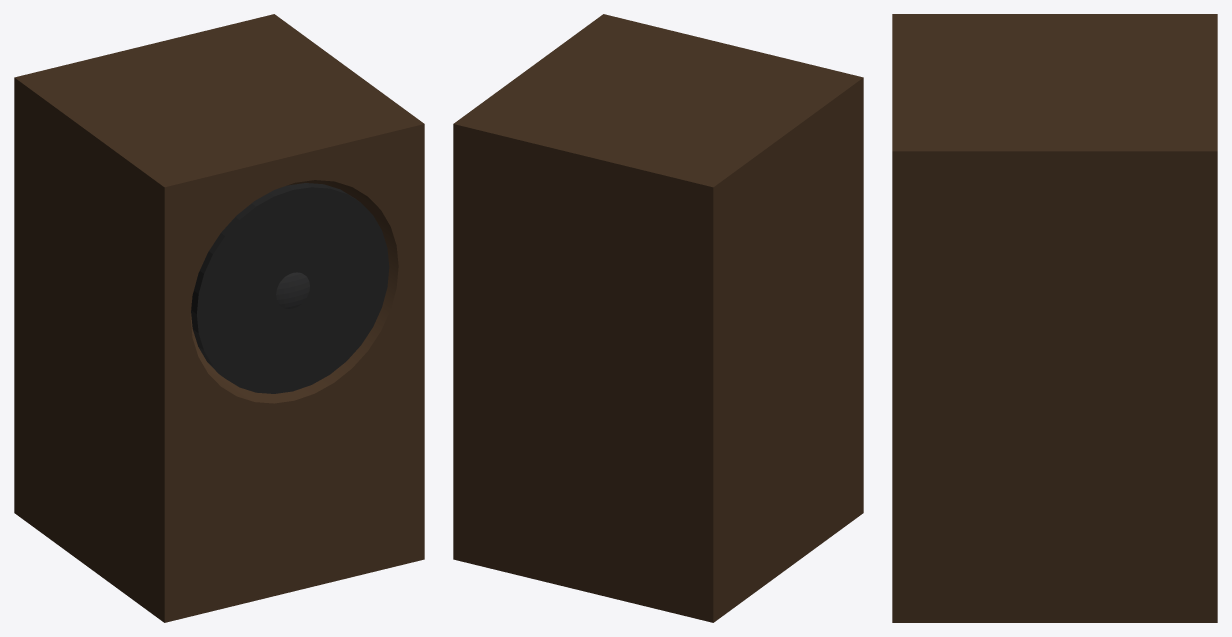
Rendered from speaker.gltf.
3 renders of one model, left to right at view 1: azimuth 30°, elevation 25°; view 2: azimuth 150°, elevation 25°; view 3: azimuth 270°, elevation 25°, orthographic. The views are drawn at different scales.
Parts seen in each view (by area): view 1: SpeakerBody, SpeakerCone, SpeakerDustCover; view 2: SpeakerBody; view 3: SpeakerBody.
Boxes of the visible parts, x1,y1,x2,y2 form: SpeakerBody: [14, 14, 424, 622]; SpeakerCone: [191, 183, 389, 393]; SpeakerDustCover: [276, 272, 309, 308]; SpeakerBody: [453, 14, 863, 622]; SpeakerBody: [892, 14, 1217, 622].
Size of the model in its own units: 1 by 1.6 by 1.
